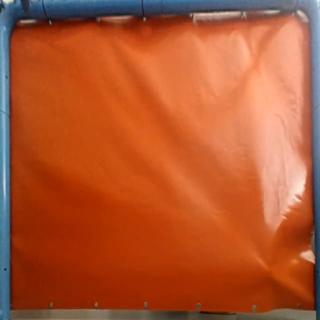Hit-hRxx: (263, 266, 281, 284)
